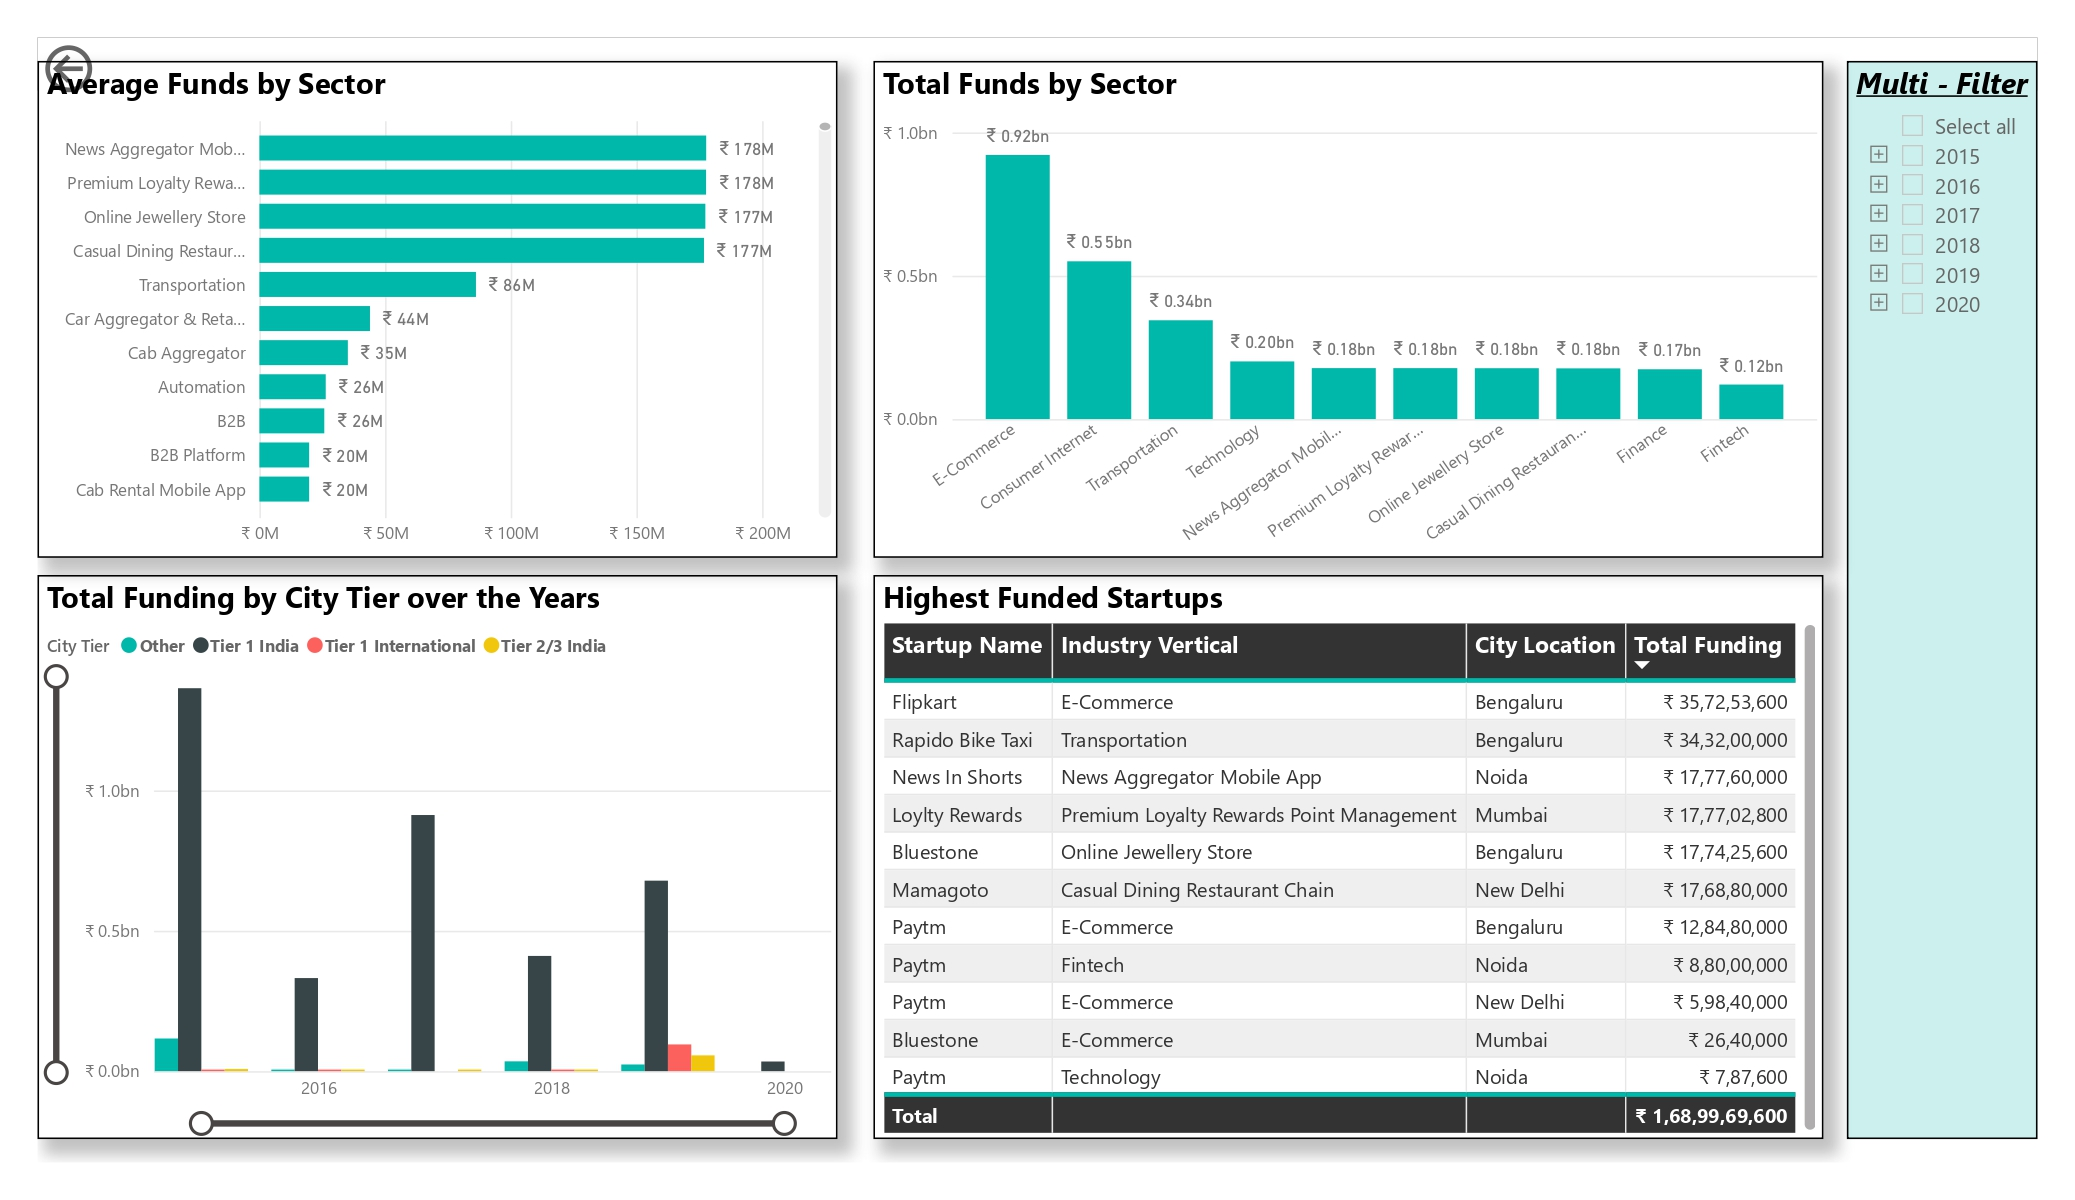

Layout of this report page (visuals, bound fields, positions):
{"tool":"powerbi","page":{"name":"Page 2","canvas":[1280,720],"ordinal":2},"visuals":[{"type":"actionButton","box":[0,0,100,40],"z":0},{"type":"barChart","title":"Average Funds by Sector","fields":{"Category":["startup.Industry Vertical"],"Y":["Avg(startup.Amount in INR(K))"]},"box":[0,15.1,511.8,318.4],"z":1000},{"type":"clusteredColumnChart","title":"Total Funding by City Tier over the Years","fields":{"Category":["startup.Date.Variation.Date Hierarchy.Year"],"Y":["startup.Total Funding"],"Series":["startup.City Tier"]},"box":[0,344.4,511.8,360.9],"z":2000},{"type":"tableEx","title":"Highest Funded Startups","fields":{"Values":["startup.Startup Name","startup.Industry Vertical","startup.City Location","startup.Total Funding"]},"box":[535.2,344.4,607.9,360.9],"z":3000},{"type":"slicer","title":"Multi - Filter","fields":{"Values":["startup.Date.Variation.Date Hierarchy.Year","startup.Industry Vertical","startup.City Location"]},"box":[1158.2,15.1,122.1,690.2],"z":4000},{"type":"columnChart","title":"Total Funds by Sector","fields":{"Y":["startup.Total Funding"],"Category":["startup.Industry Vertical"]},"box":[535.2,15.1,607.9,318.4],"z":5000}]}

Visuals, with their boxes in screenshot pixels (x1, y1, x2, y2):
actionButton: (38,38,194,100)
"Average Funds by Sector" barChart: (38,61,837,559)
"Total Funding by City Tier over the Years" clusteredColumnChart: (38,576,837,1140)
"Highest Funded Startups" tableEx: (874,576,1824,1140)
"Multi - Filter" slicer: (1847,61,2038,1140)
"Total Funds by Sector" columnChart: (874,61,1824,559)
